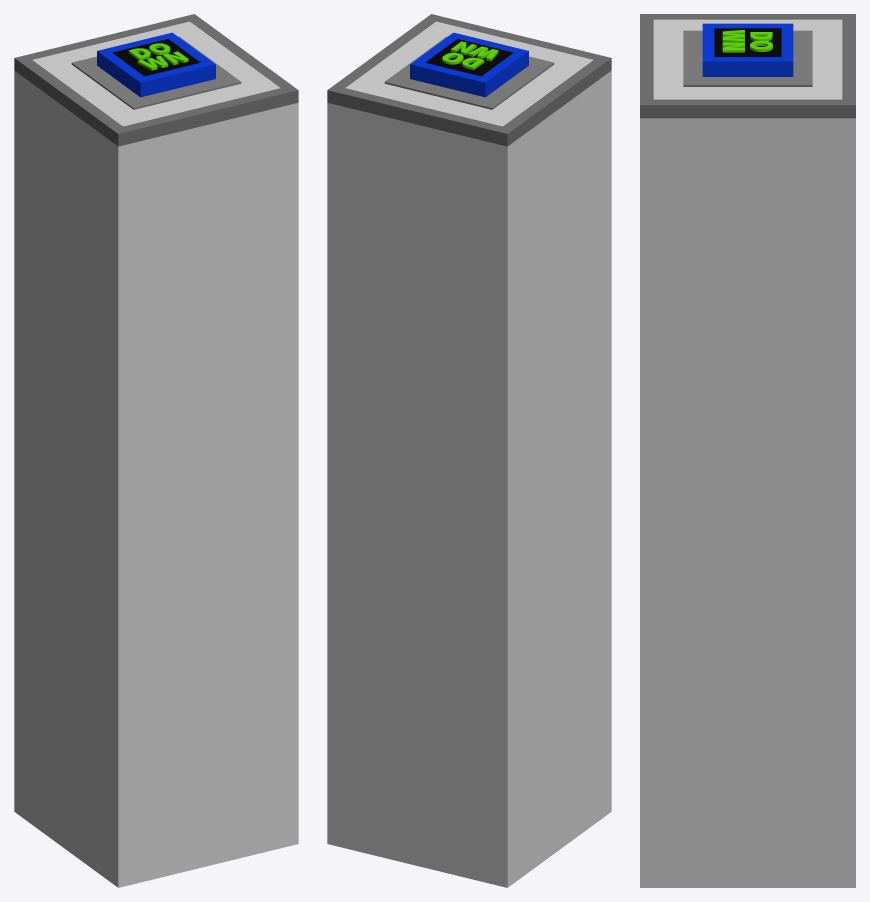
File: white_blue_down.fbx
3 renders of one model, left to right at view 1: azimuth 30°, elevation 25°; view 2: azimuth 150°, elevation 25°; view 3: azimuth 270°, elevation 25°, orthographic. The views are drawn at different scales.
Visible parts, largest first — view 1: white_blue_down; view 2: white_blue_down; view 3: white_blue_down.
Part boxes in pixels (<box>): white_blue_down: <box>14,14,298,887</box>; white_blue_down: <box>327,14,611,887</box>; white_blue_down: <box>640,14,855,887</box>.
Size of the model in its own units: 1 by 4.1 by 1.
